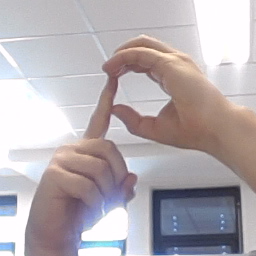P: (30, 32, 214, 229)
